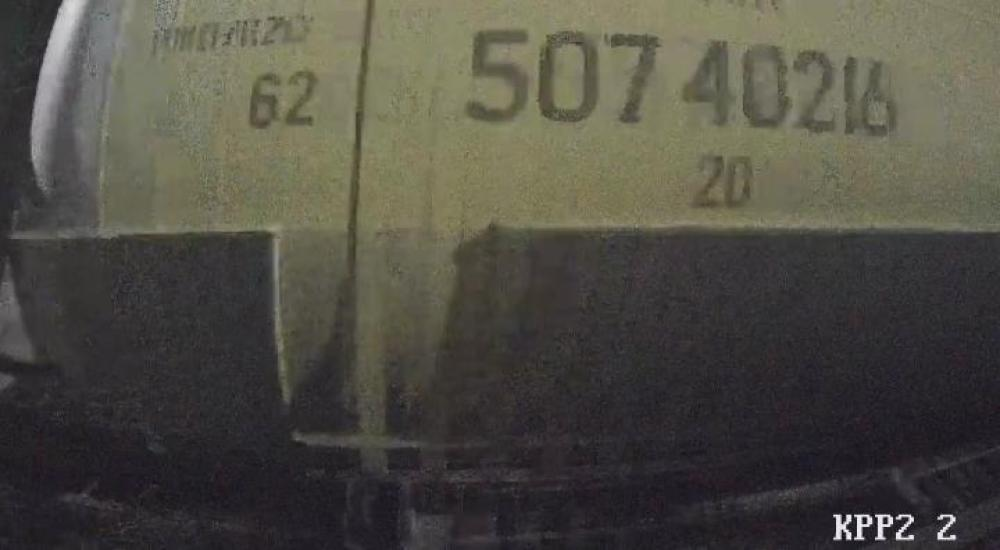Wagon-number: (460, 22, 905, 144)
